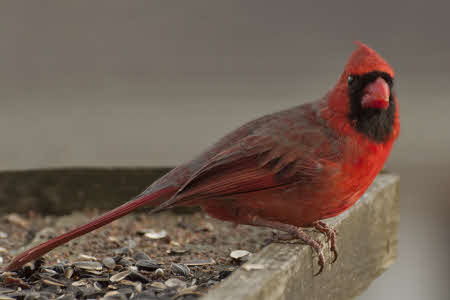bird: (50, 53, 398, 247)
